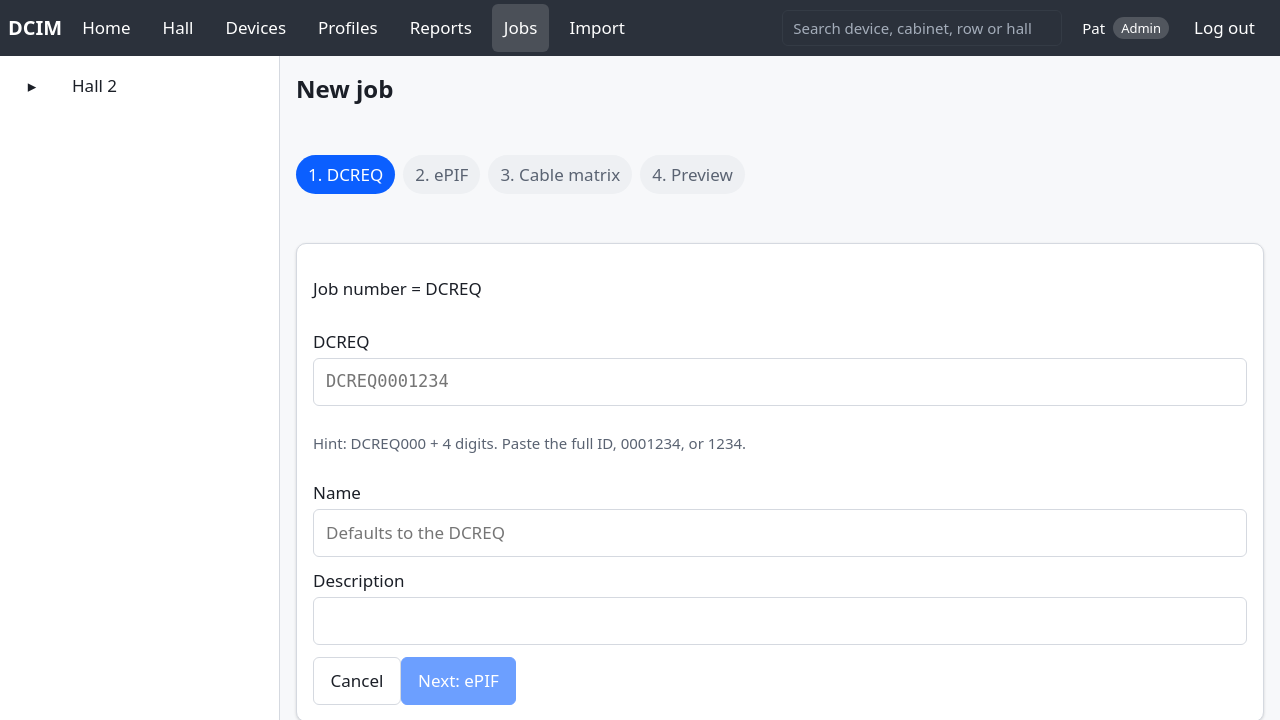
Test case: DCREQ step › shows formula_prefix under Name and does not rewrite the typed value
This screenshot has width=1280, height=720.
Check: the heading "New job" is shown, box [296,72,393,106]
In the field labelled "DCREQ": (780, 382) [313,358,1247,406], type "DCREQ0008010"
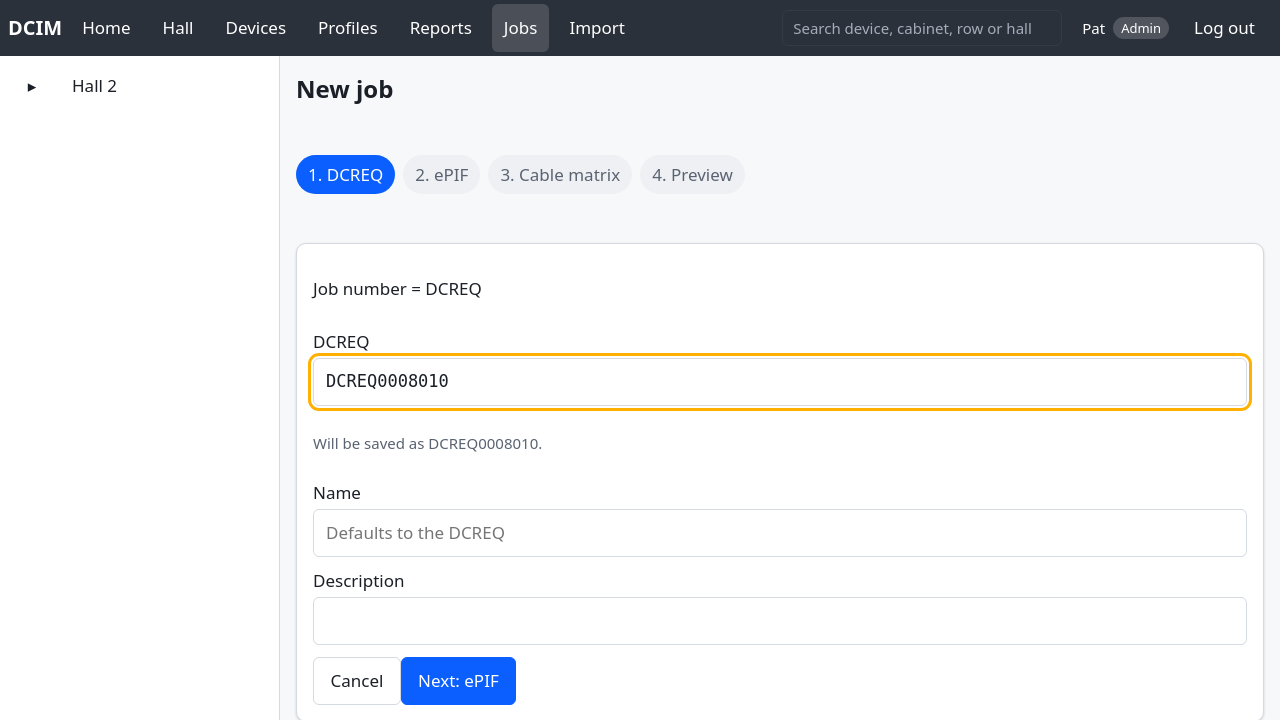
In the field labelled "Name": (780, 533) [313,509,1247,557], type "=Leaf refresh"
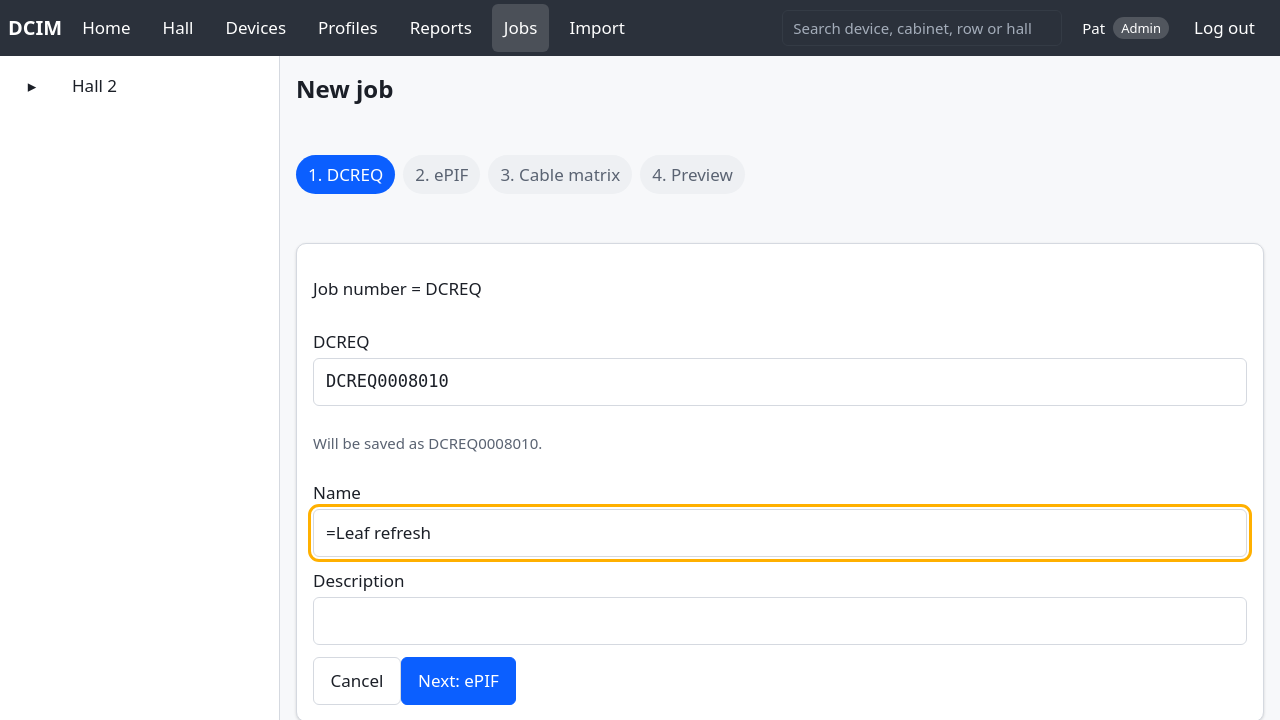
Click the button "Next: ePIF": click(458, 681) [401,657,516,705]
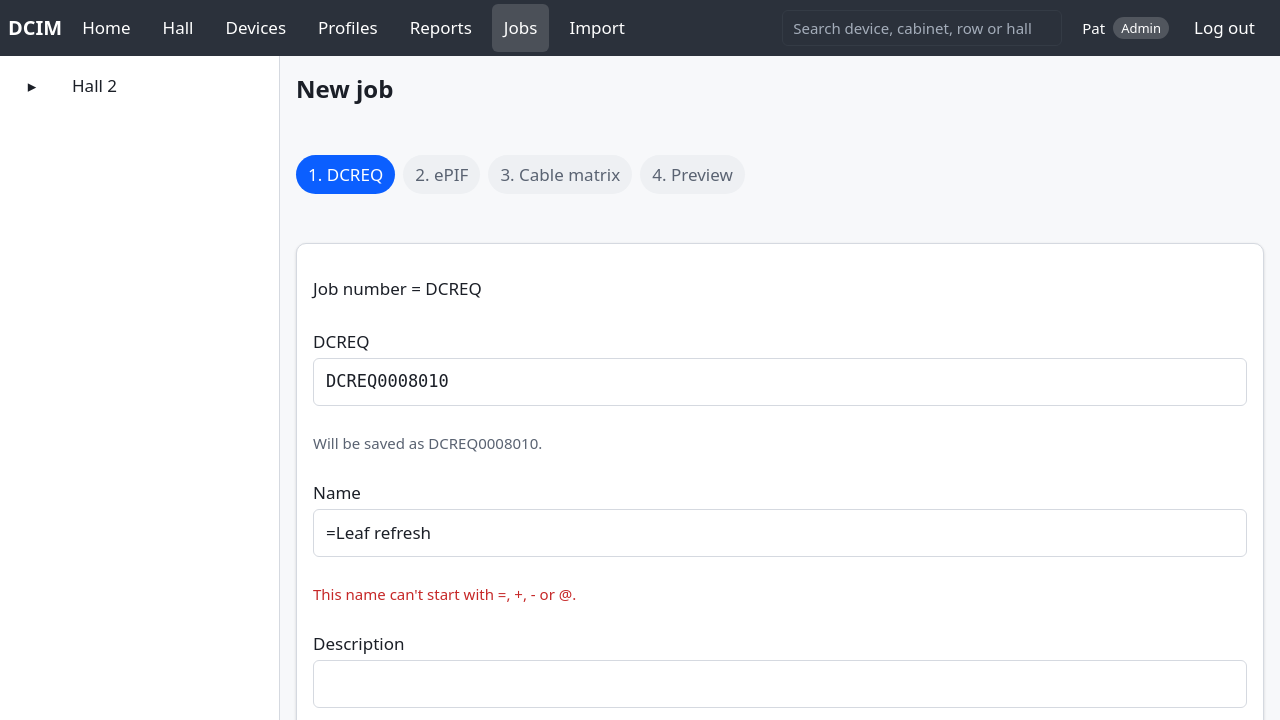
Check: the message shows "name can't start with =, +, - or @", box [313,584,576,604]
